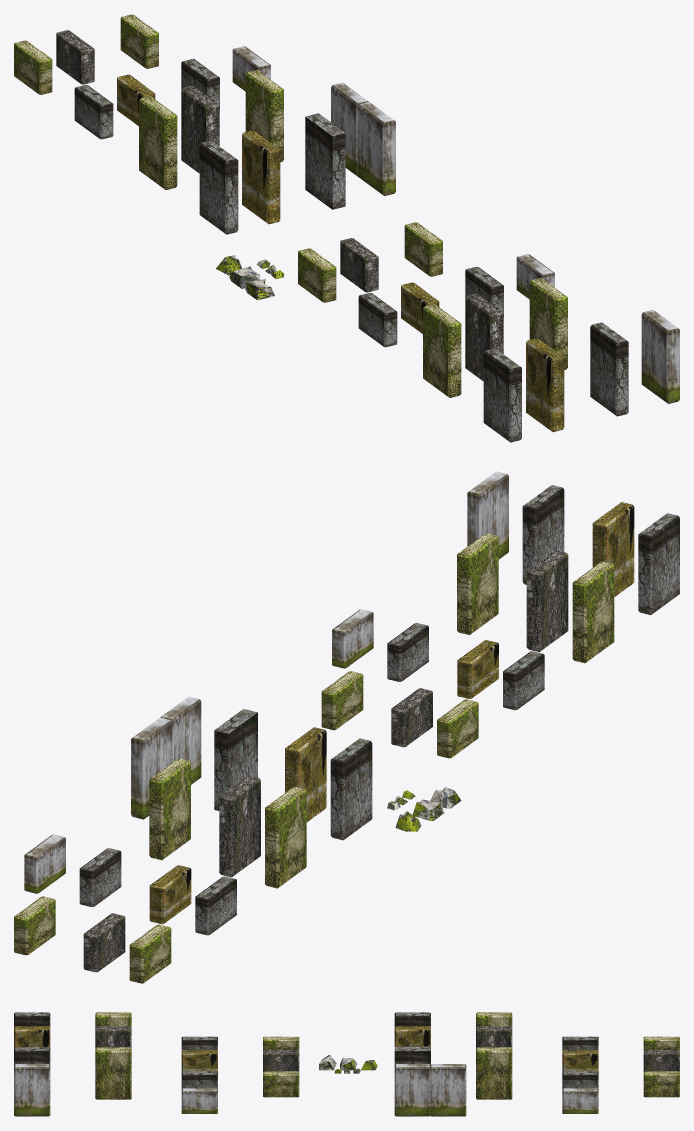
The model's file is walls.fbx.
The picture shows the model from 3 angles, top to bottom: view 1: azimuth 30°, elevation 25°; view 2: azimuth 150°, elevation 25°; view 3: azimuth 270°, elevation 25°; orthographic projection. The views are drawn at different scales.
Parts seen in each view (by area): view 1: Cube.007, Cube, Cube.026, Cube.001, Cube.005, Cube.030, Cube.033, Cube.003, Cube.028, Cube.032, Cube.004, Cube.029 (+17 smaller); view 2: Cube, Cube.030, Cube.031, Cube.002, Cube.003, Cube.029, Cube.033, Cube.004, Cube.007, Cube.026, Cube.032, Cube.001 (+17 smaller); view 3: Cube.004, Cube.005, Cube.028, Cube.029, Cube.034, Cube.009, Cube.024, Cube.008, Cube.025, Cube.011, Cube.012, Cube.021 (+19 smaller).
Boxes of the visible parts, <box> form: Cube.007: <box>305,113,345,209</box>; Cube: <box>199,140,238,234</box>; Cube.026: <box>590,322,628,416</box>; Cube.001: <box>242,130,280,224</box>; Cube.005: <box>357,102,395,195</box>; Cube.030: <box>423,304,461,397</box>; Cube.033: <box>483,348,521,442</box>; Cube.003: <box>139,96,177,189</box>; Cube.028: <box>641,310,679,403</box>; Cube.032: <box>526,338,564,431</box>; Cube.004: <box>245,70,283,162</box>; Cube.029: <box>529,278,567,369</box>; Cube: <box>330,738,372,840</box>; Cube.030: <box>572,561,614,663</box>; Cube.031: <box>526,550,568,652</box>; Cube.002: <box>219,775,260,877</box>; Cube.003: <box>265,786,306,888</box>; Cube.029: <box>457,533,498,634</box>; Cube.033: <box>638,513,679,614</box>; Cube.004: <box>149,758,190,860</box>; Cube.007: <box>214,709,257,810</box>; Cube.026: <box>522,485,564,584</box>; Cube.032: <box>592,502,634,596</box>; Cube.001: <box>285,727,326,822</box>; Cube.004: <box>476,1047,512,1099</box>; Cube.005: <box>394,1064,430,1116</box>; Cube.028: <box>14,1064,50,1116</box>; Cube.029: <box>95,1047,131,1099</box>; Cube.034: <box>430,1064,466,1116</box>; Cube.009: <box>643,1071,679,1097</box>; Cube.024: <box>263,1071,299,1097</box>; Cube.008: <box>562,1088,598,1113</box>; Cube.025: <box>181,1088,217,1113</box>; Cube.011: <box>643,1050,679,1071</box>; Cube.012: <box>562,1050,598,1071</box>; Cube.021: <box>181,1050,217,1071</box>.
Bounding box in the file's own units: 3429 × 1495 × 14812.
